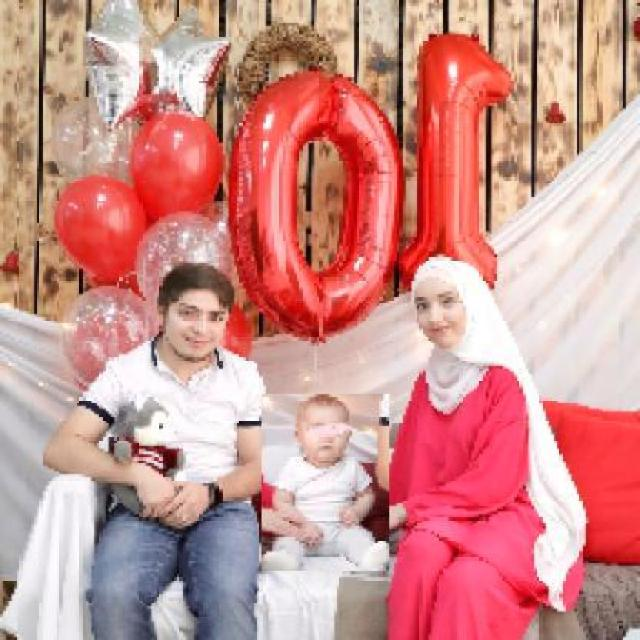child: (260, 393, 389, 573)
